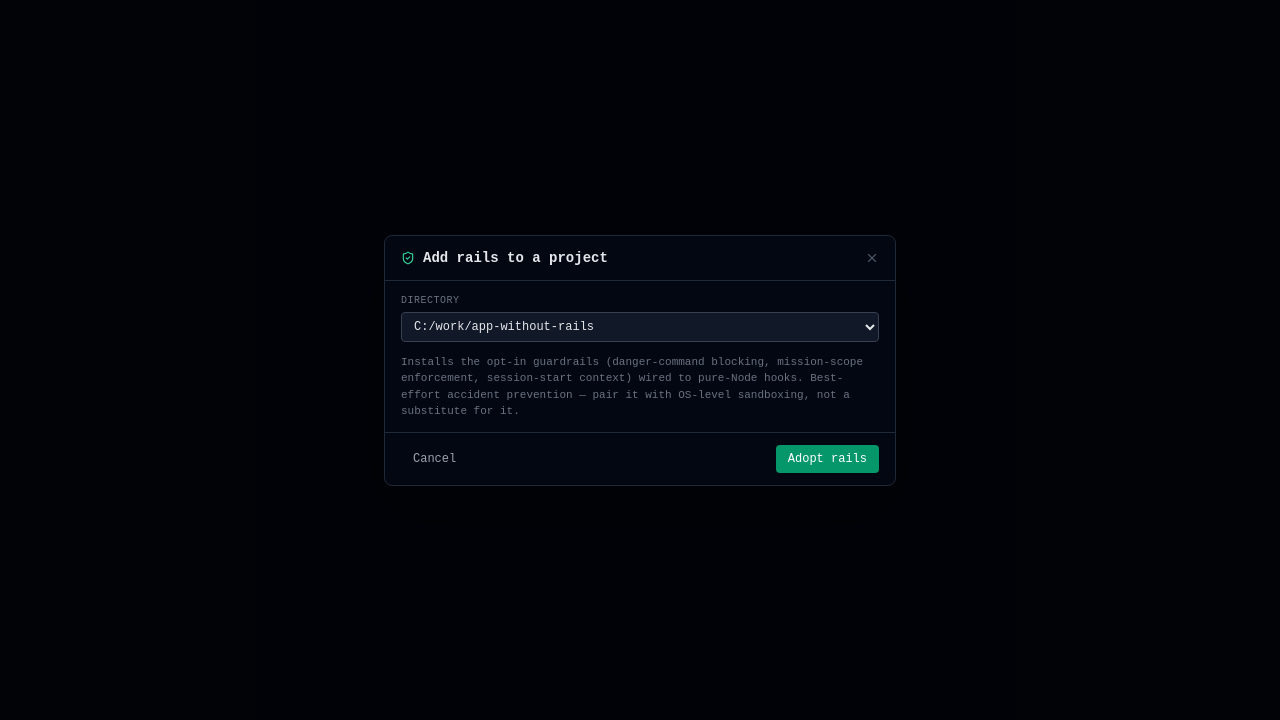
Scenario: AddRailsDialog › surfaces a server error without claiming success
This screenshot has width=1280, height=720.
Click the button "Adopt rails" at (827, 458), box [776,444,879,472]
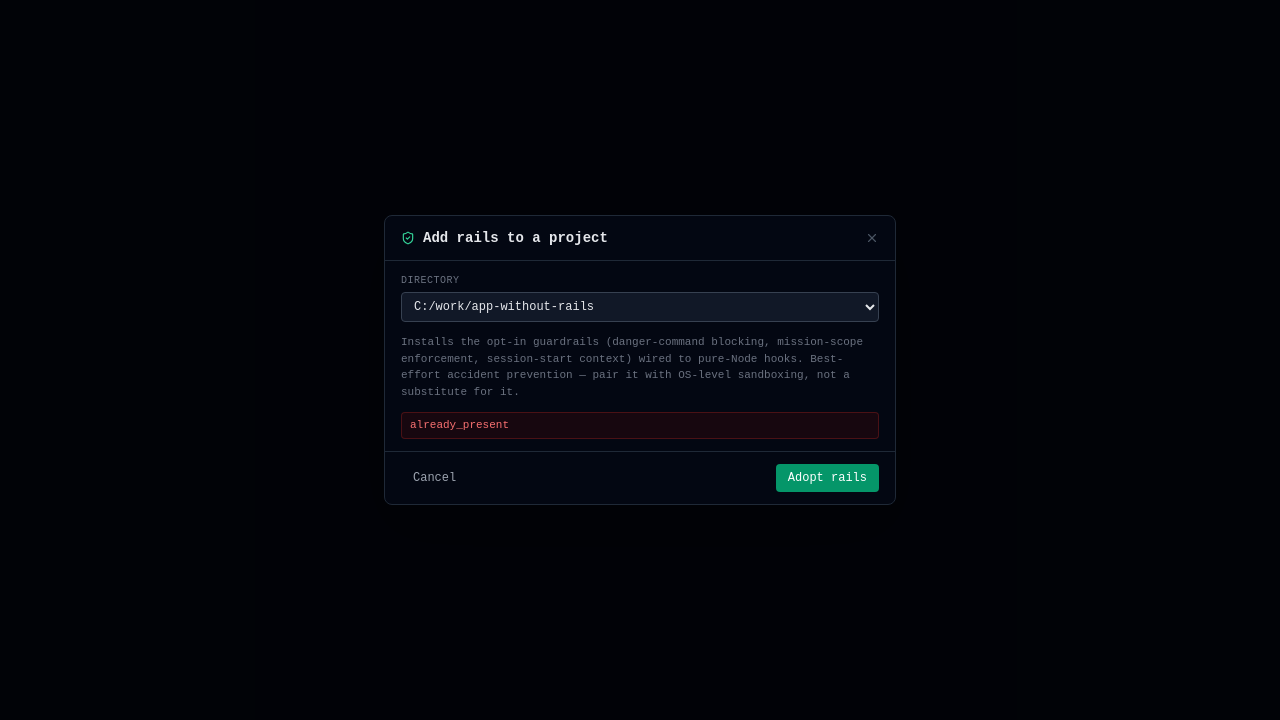
Check: the text "already_present" is shown, box [401,412,879,439]
